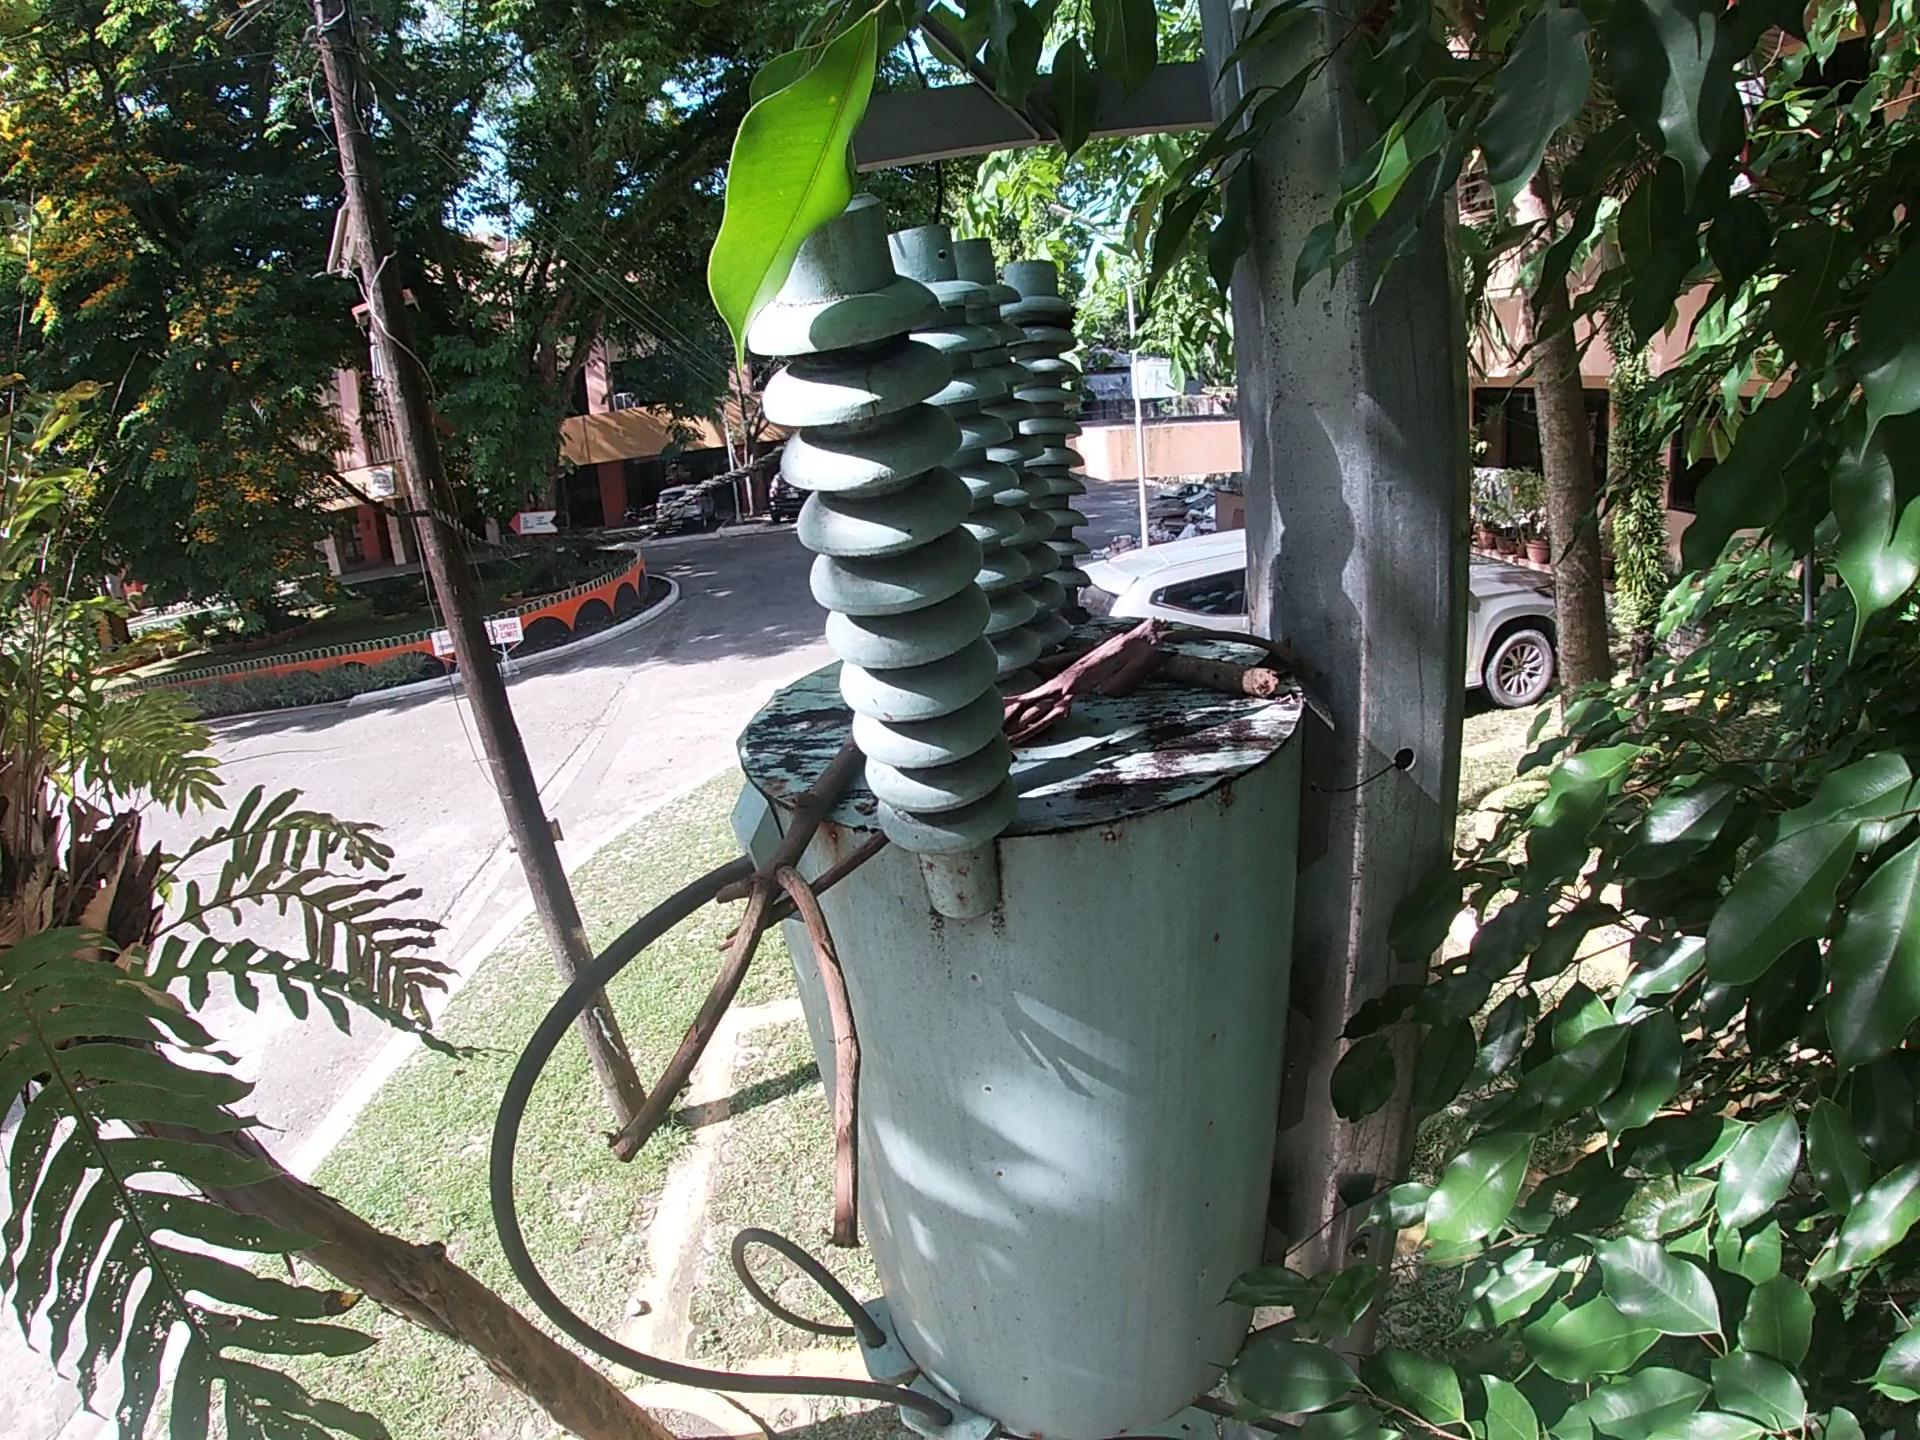tree branch: (556, 737, 869, 1272), (1008, 617, 1169, 743), (1039, 643, 1299, 700), (1020, 625, 1329, 672)
